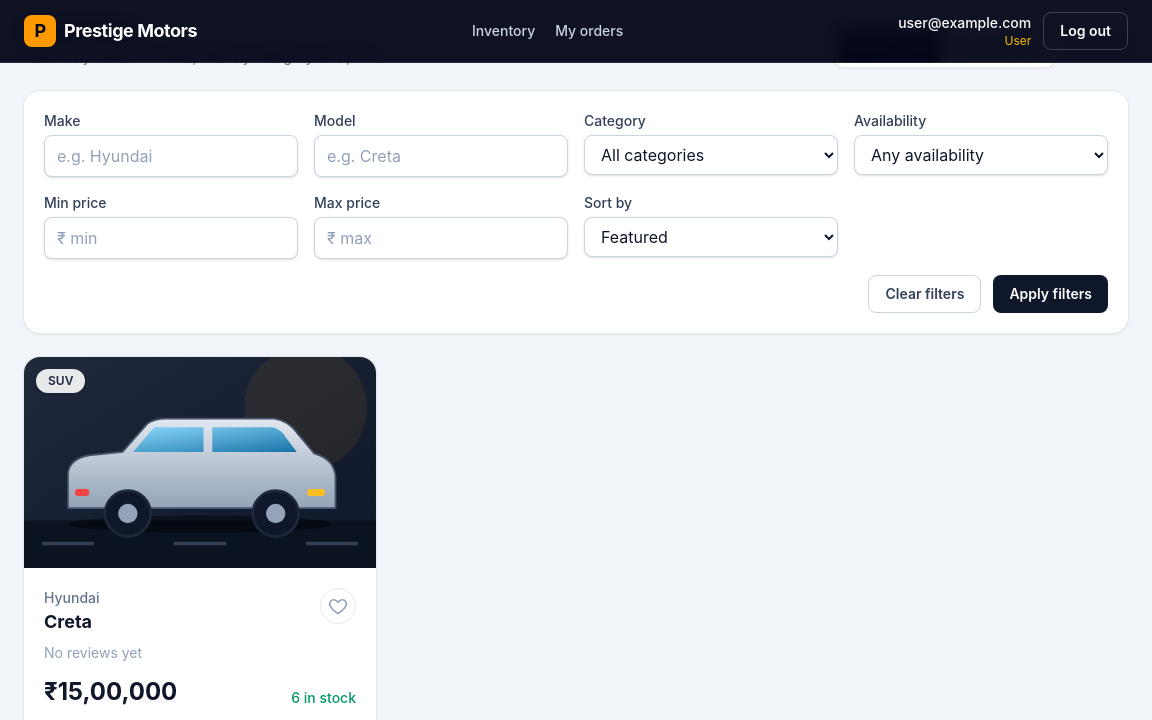
Test: inventory › shows an empty state when nothing matches
(page scrolled)
Type "Ferrari" into the field labelled "Make".
click(171, 156); type("Ferrari")  # box [44,135,298,177]
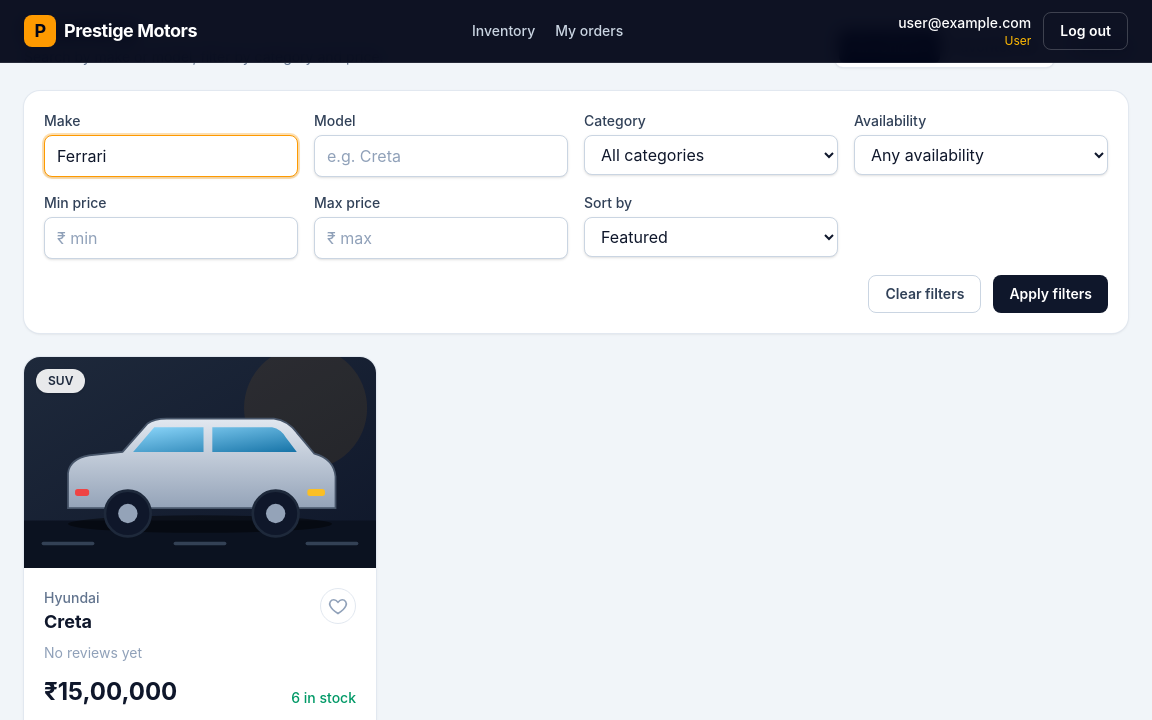
Click the button "Apply filters".
click(1051, 294)  # box [993,275,1108,313]
(page scrolled)
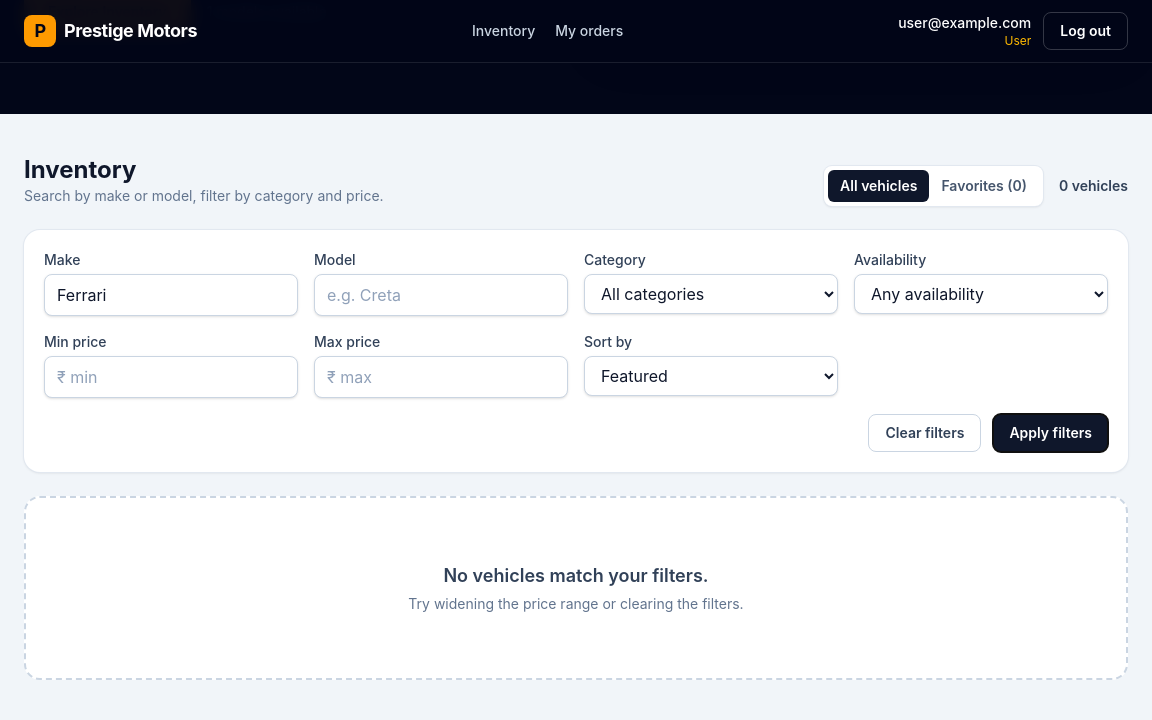
Result: the text "No vehicles match your filters." is shown at [443,565,708,586]
Result: the text "0 vehicles" is shown at [1059,176,1128,196]
